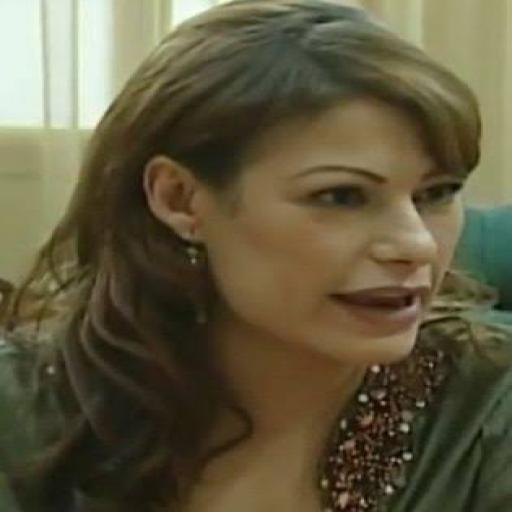zeineb: (185, 98, 460, 360)
